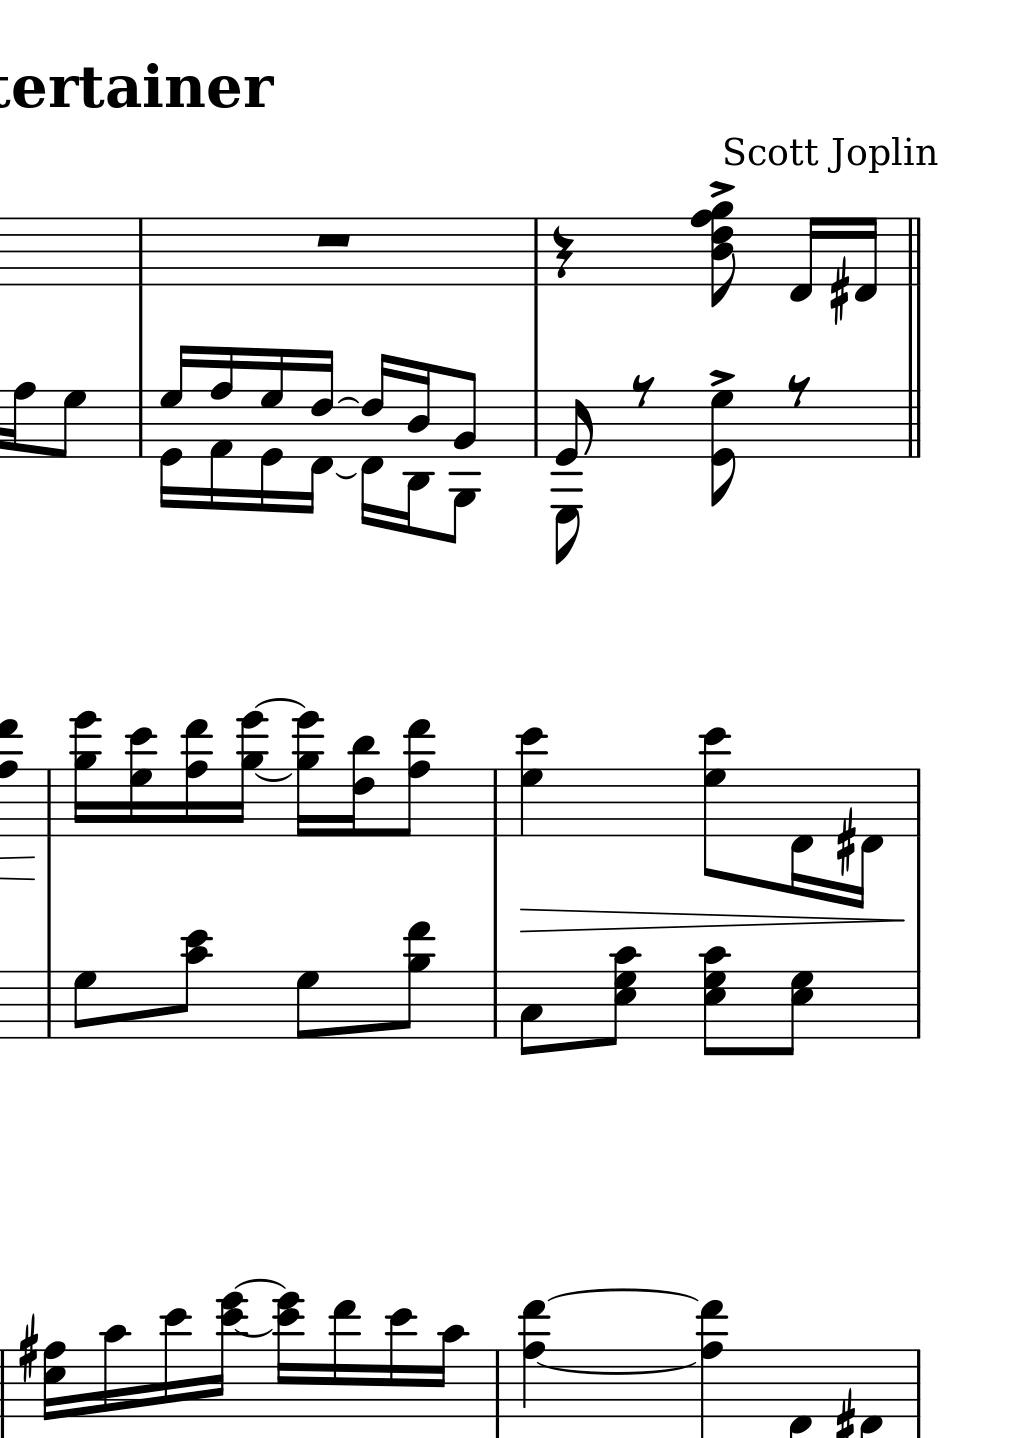16_-1: (853, 766, 882, 909), (790, 764, 814, 896), (788, 215, 821, 305), (853, 215, 878, 305)
16_-1_6: (360, 352, 392, 529), (304, 348, 333, 517)
16_-3_4: (398, 358, 431, 538)
16_0_7: (158, 344, 189, 508), (258, 345, 285, 516)
16_10: (433, 1322, 463, 1421), (100, 1322, 125, 1418)
16_12: (160, 1306, 189, 1419), (386, 1306, 414, 1420)
16_12_14: (211, 1291, 247, 1418), (272, 1291, 306, 1418)
16_13: (329, 1300, 358, 1418)
16_1_8: (207, 345, 236, 512)
16_5_8: (42, 1341, 67, 1421)
16_6_11: (340, 735, 380, 838)
16_7_12: (125, 727, 158, 838)
16_8: (1, 380, 34, 458)
16_8_13: (179, 718, 212, 838)
16_9_14: (231, 709, 269, 839), (68, 710, 103, 838), (292, 710, 325, 838)
4_7_12: (515, 726, 550, 838)
4_8_13: (520, 1300, 551, 1418)
8_-5_2: (445, 369, 477, 546)
8_-7_2: (553, 389, 592, 566)
8_0_7: (709, 388, 737, 508)
8_10_12: (175, 927, 215, 1040)
8_3: (517, 969, 543, 1058)
8_4th: (690, 197, 739, 310)
8_5_7: (781, 970, 814, 1056)
8_7: (52, 389, 86, 459), (72, 969, 98, 1041), (294, 969, 320, 1041)
8_7_12: (698, 725, 732, 881)
8_8_13: (398, 718, 436, 839)
8_9_13: (397, 920, 434, 1042)
8_th: (601, 944, 643, 1049), (700, 944, 733, 1060)
Accent_above: (706, 177, 736, 198), (707, 367, 736, 387)
Diminuendo_hairpin: (520, 907, 907, 933)
Double_barline: (903, 217, 926, 286)
Final_barline: (901, 391, 925, 457)
Rests1: (311, 229, 356, 251)
Rests4: (550, 226, 573, 281)
Rests8: (630, 373, 656, 408), (786, 373, 811, 408)
Sharp: (17, 1311, 39, 1385), (834, 810, 855, 875), (829, 261, 849, 326)
Single_barline: (485, 972, 505, 1038), (486, 769, 505, 836), (488, 1350, 506, 1417), (40, 770, 58, 836), (40, 972, 58, 1038), (909, 1349, 926, 1417), (132, 389, 149, 457), (909, 769, 926, 836), (909, 972, 926, 1038), (527, 219, 544, 284), (132, 218, 147, 286), (527, 391, 543, 457), (1, 1350, 11, 1417)
Slur: (535, 1360, 693, 1376), (253, 772, 293, 827), (546, 1287, 698, 1302), (251, 695, 308, 710), (233, 1278, 288, 1292), (232, 1328, 272, 1339), (335, 396, 361, 406), (333, 469, 358, 479)
